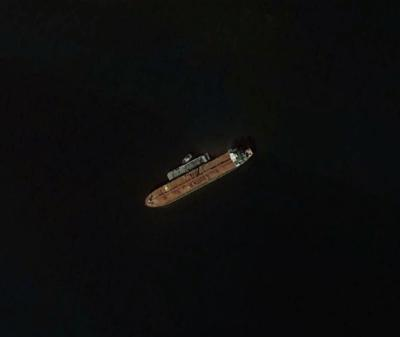Boat: (114, 130, 260, 245)
